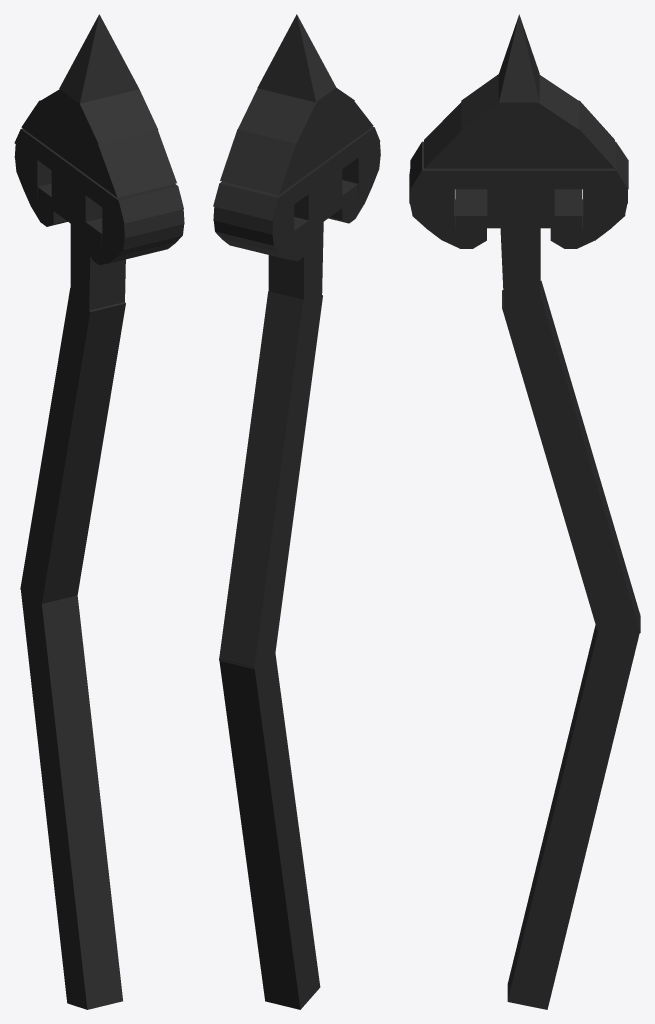
Rendered from laevatein.obj.
3 views of the same model, side by side, from view 1: azimuth 30°, elevation 25°; view 2: azimuth 150°, elevation 25°; view 3: azimuth 270°, elevation 25° (orthographic).
Visible parts, largest first — view 1: down, up, hand_up, hand_middle_1, hand_middle, pyramid, top, hand_down_inner_up, hand_down_right_1, hand_down_inner_down, hand_down_right_2, hand_down_right_3 (+3 smaller); view 2: up, down, hand_up, hand_middle_1, hand_middle, pyramid, top, hand_down_inner_up, hand_down_left_1, hand_down_inner_down, hand_down_left_2, hand_down_left_3 (+3 smaller); view 3: down, up, hand_up, hand_middle_1, hand_middle, hand_down_inner_down, top, pyramid, hand_down_inner_up, hand_down_right_1, hand_down_left_1, hand_down_right_4 (+3 smaller).
Boxes of the visible parts, x1=… form: down: x1=20, y1=587, x2=122, y2=1009; up: x1=20, y1=288, x2=125, y2=612; hand_up: x1=21, y1=100, x2=176, y2=197; hand_middle_1: x1=14, y1=128, x2=183, y2=223; hand_middle: x1=40, y1=89, x2=158, y2=144; pyramid: x1=59, y1=14, x2=139, y2=103; top: x1=70, y1=224, x2=125, y2=315; hand_down_inner_up: x1=51, y1=170, x2=102, y2=221; hand_down_right_1: x1=102, y1=207, x2=184, y2=238; hand_down_inner_down: x1=38, y1=184, x2=102, y2=246; hand_down_right_2: x1=102, y1=222, x2=184, y2=249; hand_down_right_3: x1=102, y1=234, x2=182, y2=256; up: x1=219, y1=291, x2=322, y2=669; down: x1=219, y1=645, x2=320, y2=1009; hand_up: x1=220, y1=101, x2=373, y2=195; hand_middle_1: x1=213, y1=126, x2=380, y2=220; hand_middle: x1=238, y1=87, x2=354, y2=142; pyramid: x1=257, y1=14, x2=336, y2=102; top: x1=268, y1=222, x2=323, y2=305; hand_down_inner_up: x1=294, y1=169, x2=342, y2=220; hand_down_left_1: x1=213, y1=205, x2=294, y2=234; hand_down_inner_down: x1=294, y1=180, x2=357, y2=242; hand_down_left_2: x1=213, y1=219, x2=294, y2=245; hand_down_left_3: x1=215, y1=230, x2=294, y2=253; down: x1=507, y1=614, x2=640, y2=1009; up: x1=502, y1=280, x2=640, y2=642; hand_up: x1=424, y1=100, x2=614, y2=168; hand_middle_1: x1=410, y1=141, x2=628, y2=189; hand_middle: x1=461, y1=74, x2=578, y2=129; hand_down_inner_down: x1=455, y1=189, x2=581, y2=228; top: x1=500, y1=228, x2=540, y2=312; pyramid: x1=498, y1=14, x2=539, y2=102; hand_down_inner_up: x1=487, y1=189, x2=554, y2=215; hand_down_right_1: x1=409, y1=169, x2=453, y2=203; hand_down_left_1: x1=583, y1=189, x2=627, y2=203; hand_down_right_4: x1=426, y1=199, x2=481, y2=240.
Size of the model in its own units: 0.0938 by 1.49 by 0.3171.
